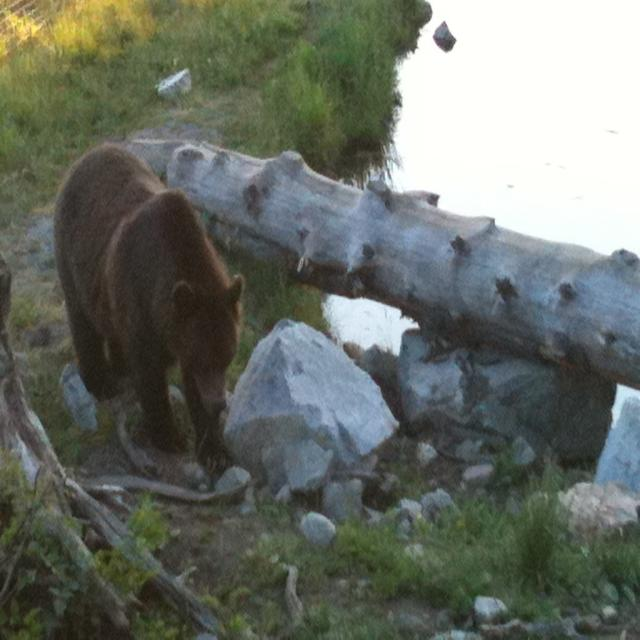Cheetahs: (47, 142, 241, 466)
